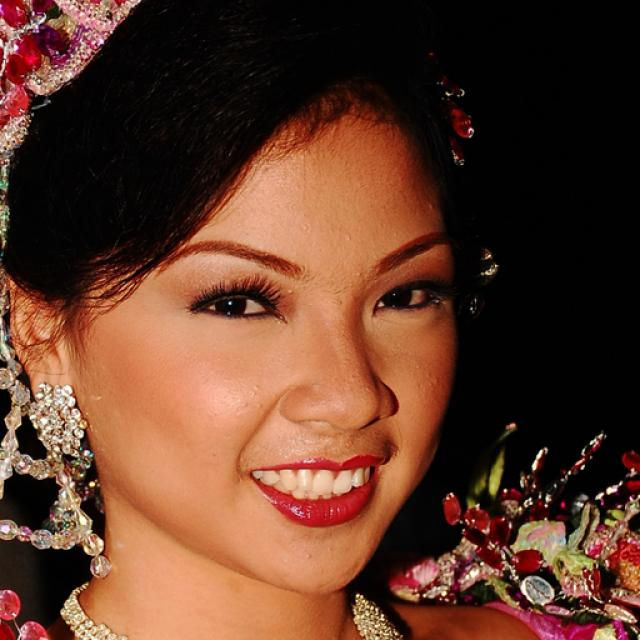Acne: (419, 368, 443, 392), (352, 262, 368, 284), (281, 286, 301, 300), (426, 198, 441, 214), (342, 233, 355, 245)
